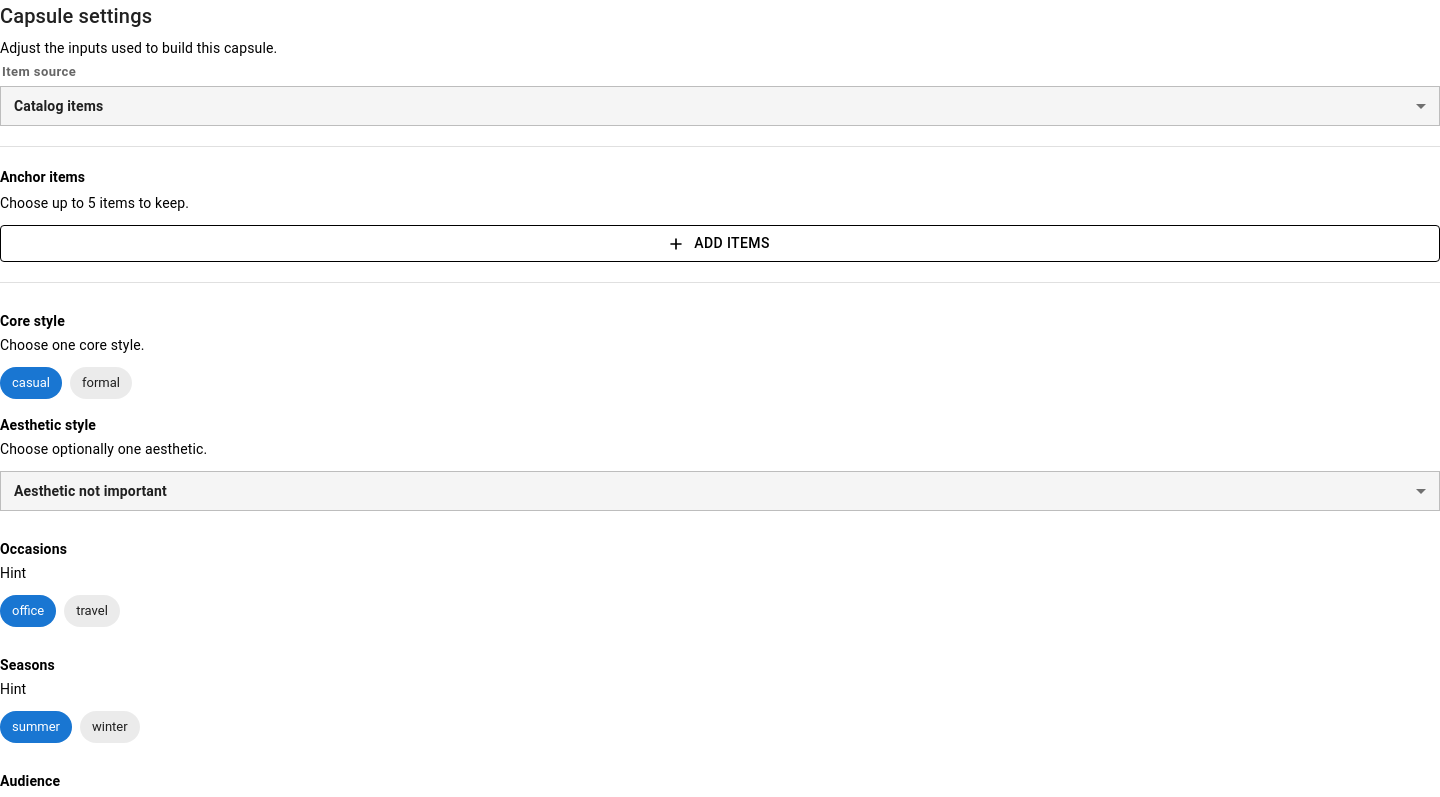
Test: ProfileFiltersSidebar › combines anchor picker source and liked-only filters
Click the button "Add items" at (720, 244), box 0,225 -> 1439,262
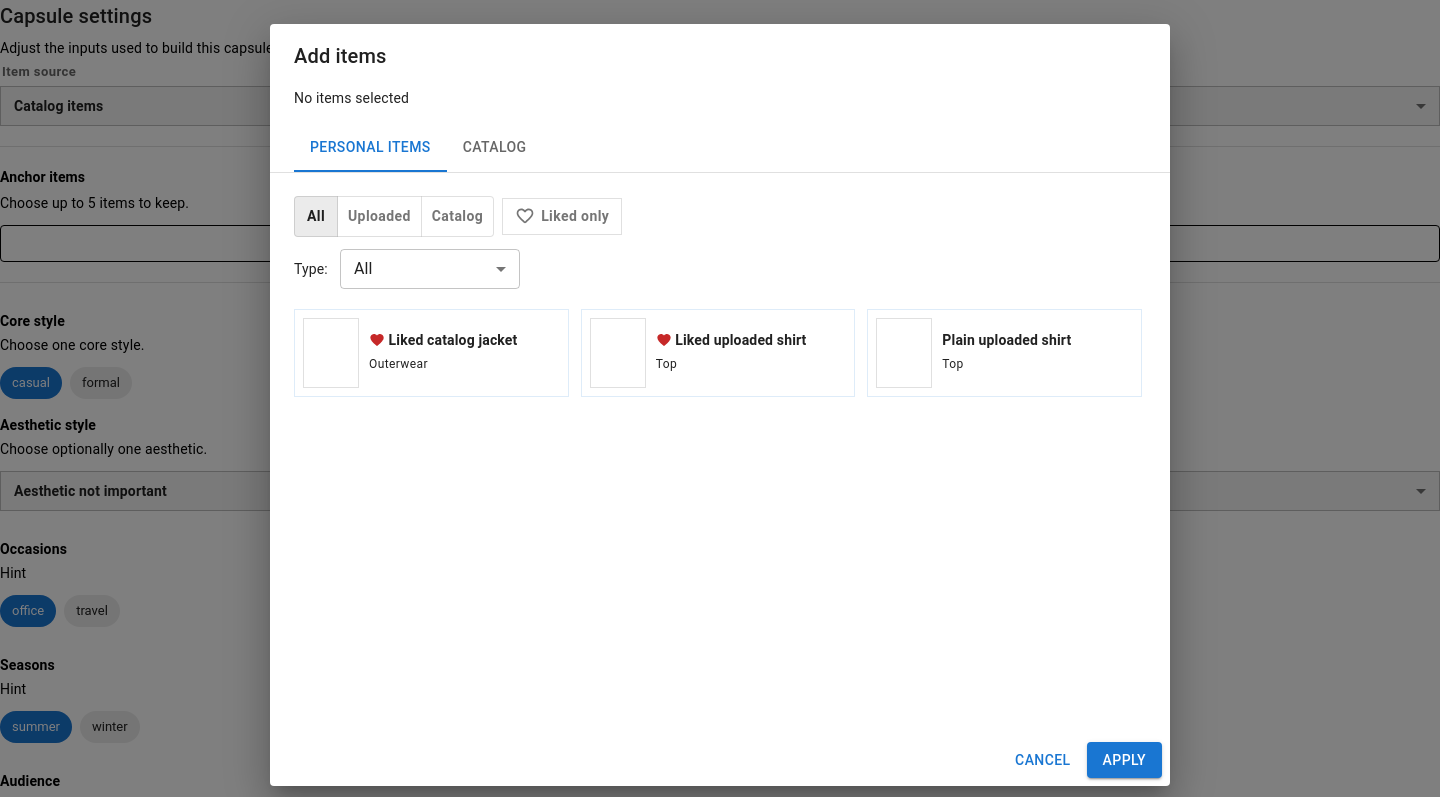
Expected: the text "Liked uploaded shirt" is shown, 656,332 -> 806,348
Expected: the element named "Item source" is shown, 294,196 -> 494,236
Click the button "Uploaded" at (379, 216), box 337,196 -> 422,236
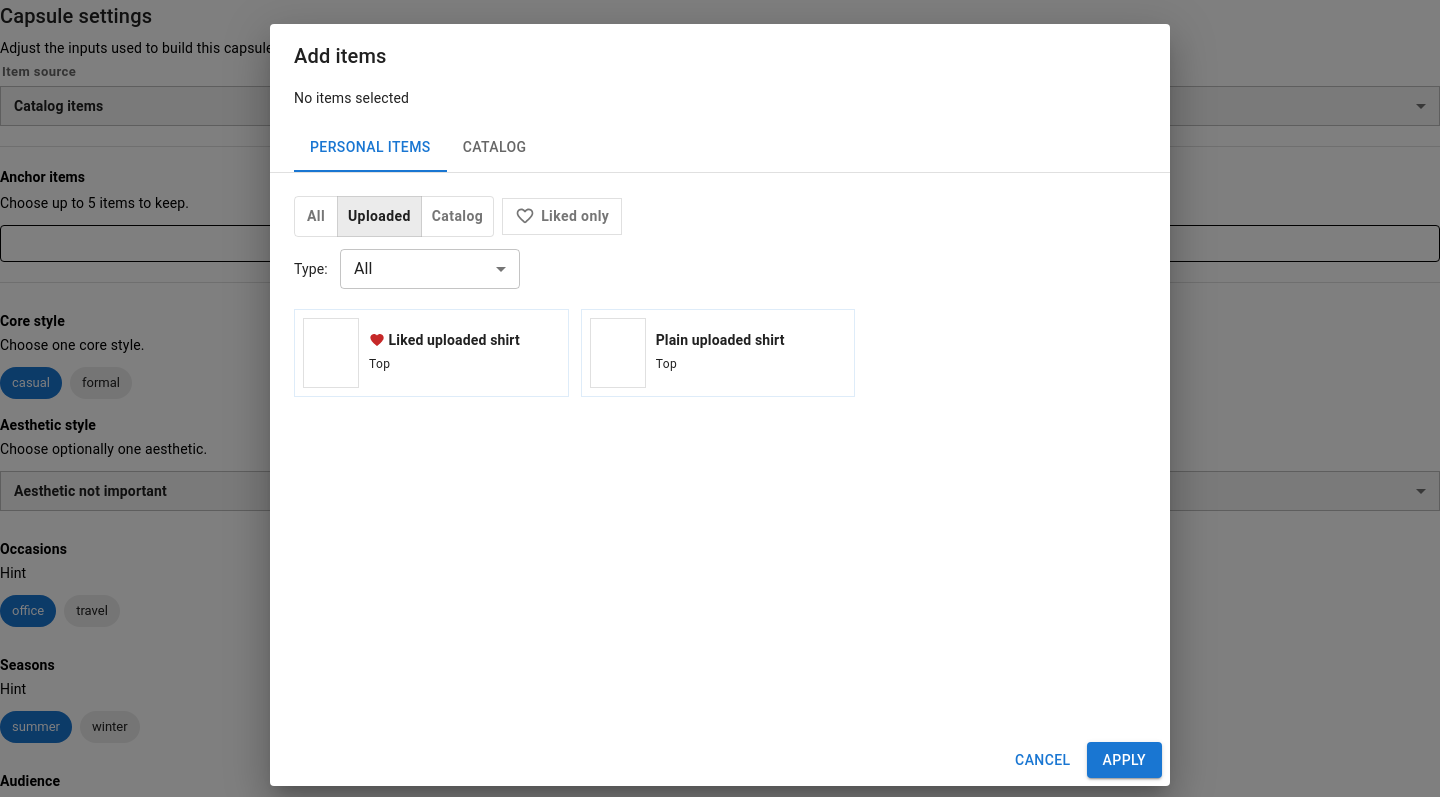
Click the button "Liked only" at (562, 216), box 502,198 -> 622,235
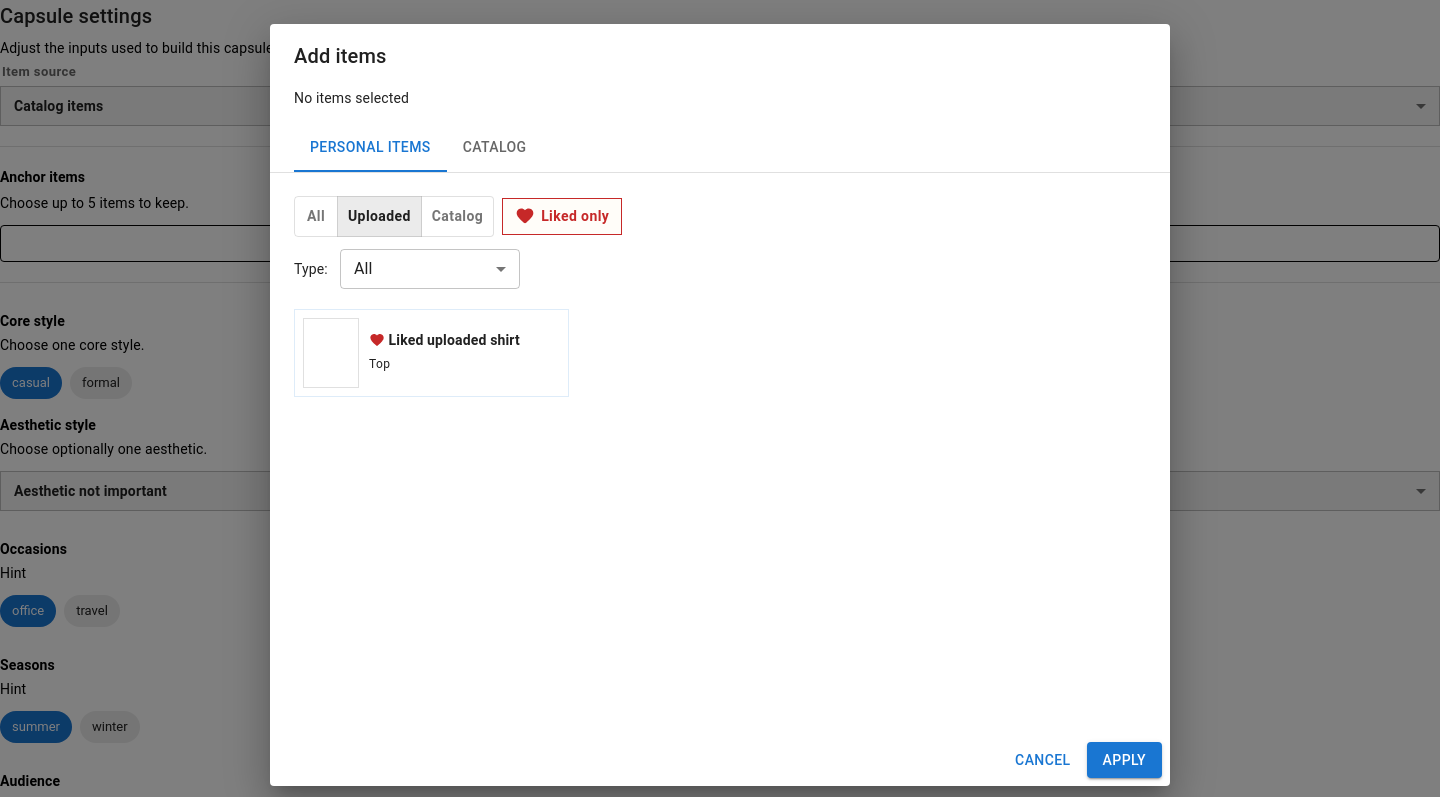
Expected: the button "Liked uploaded shirt Top" is shown, 294,308 -> 569,396
Expected: the picture named "Liked" is shown, 369,332 -> 385,348
Expected: the button "Plain uploaded shirt" is gone
Click the button "Catalog" at (457, 216), box 421,196 -> 494,236
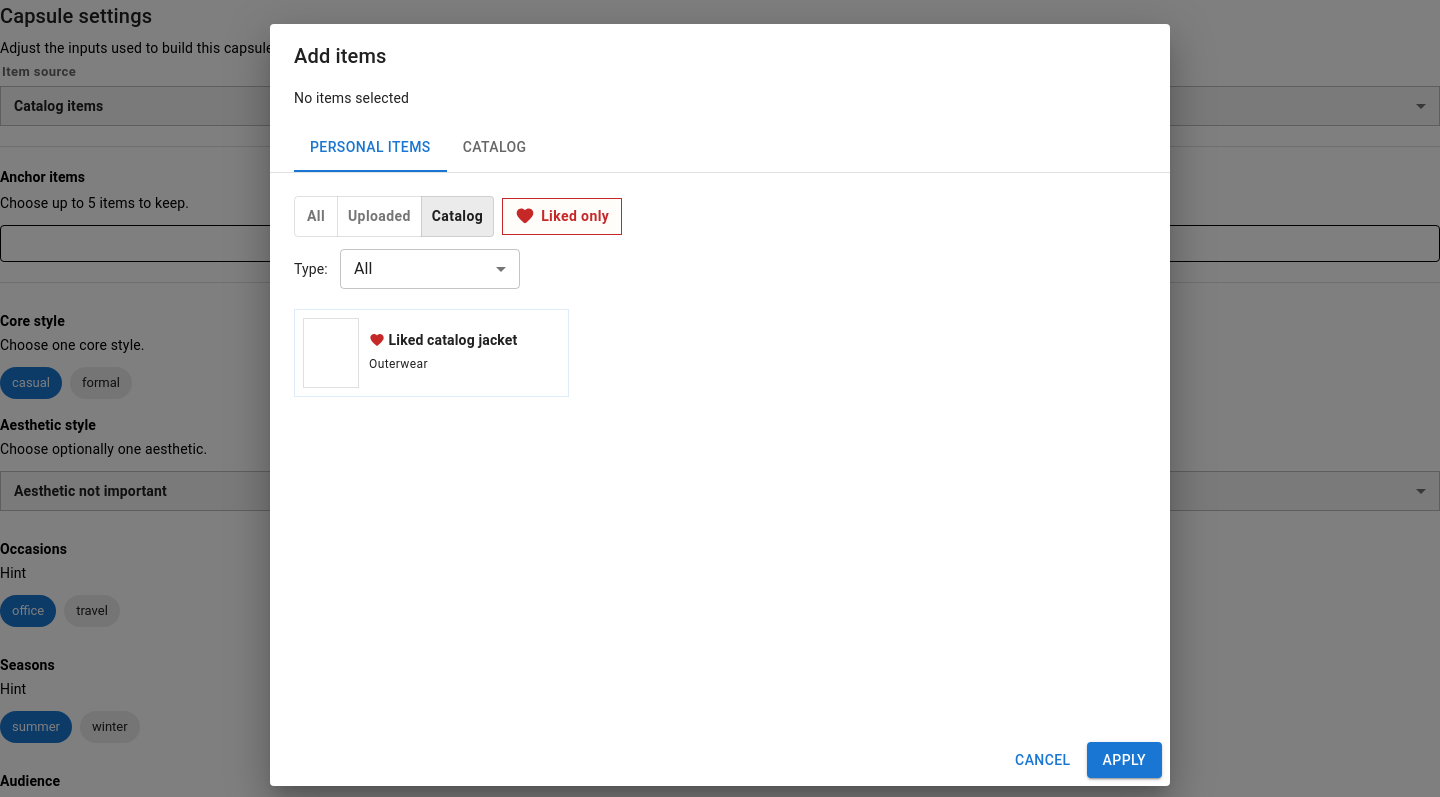
Expected: the button "Liked uploaded shirt" is gone
Expected: the text "Liked catalog jacket" is shown, 369,332 -> 517,348
